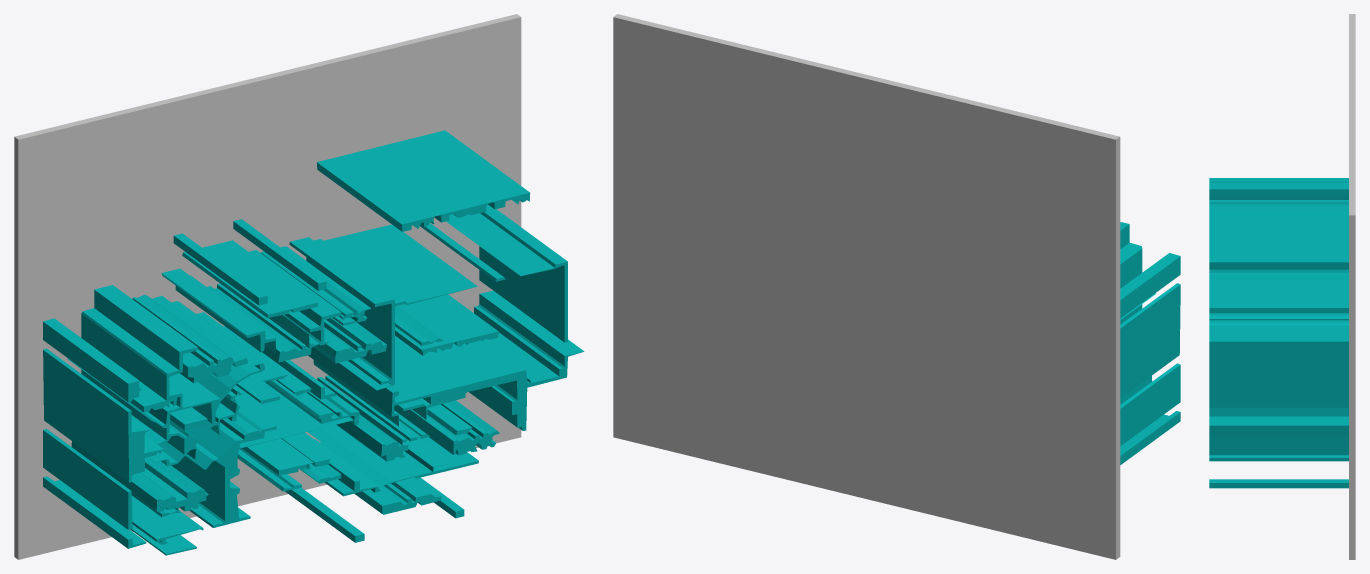
The picture shows the model from 3 angles, left to right: view 1: azimuth 30°, elevation 25°; view 2: azimuth 150°, elevation 25°; view 3: azimuth 270°, elevation 25°; orthographic projection. The views are drawn at different scales.
Parts seen in each view (by area): view 1: world; view 2: world; view 3: world.
Boxes of the visible parts, x1,y1,x2,y2 form: world: (14, 14, 584, 559); world: (613, 14, 1180, 559); world: (1209, 14, 1355, 559).
Size of the model in its own units: 10.23 by 8.17 by 3.15.
